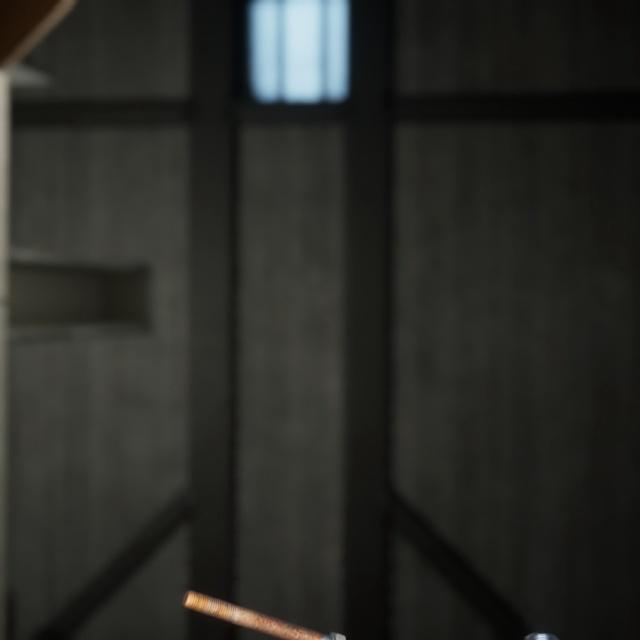bolt: (177, 561, 350, 640)
nut: (520, 604, 564, 638)
